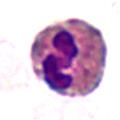eosi: (31, 17, 112, 99)
